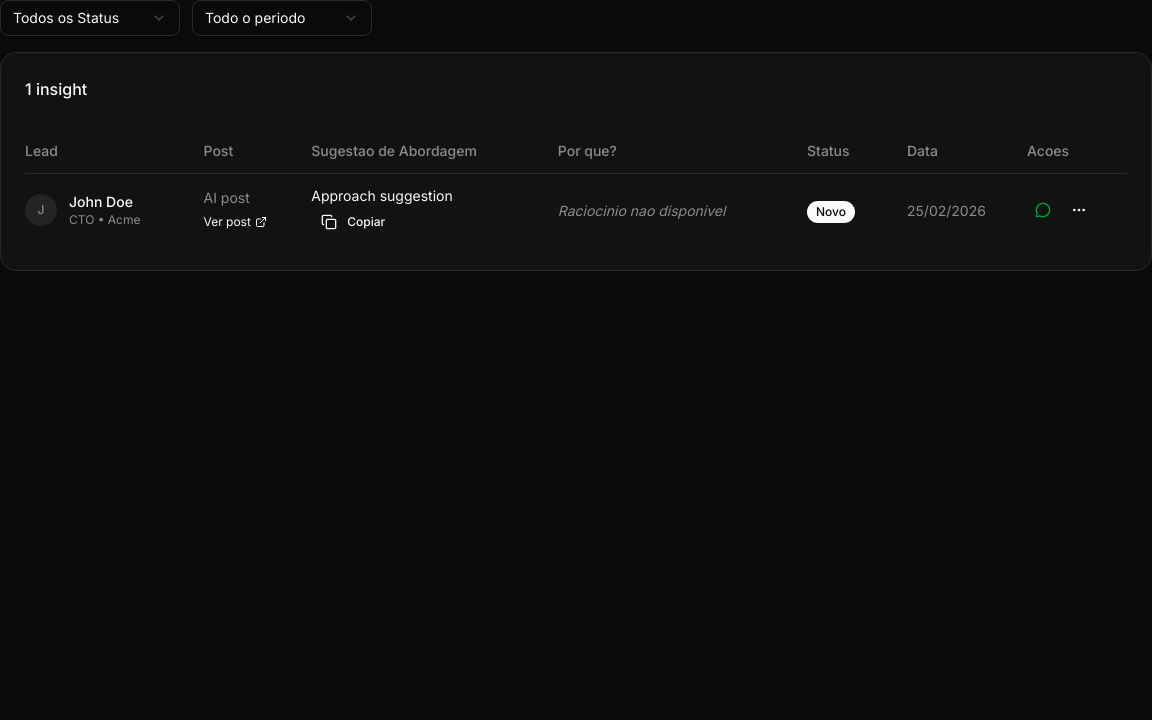
Test: InsightsPageContent › WhatsApp Dialog (Story 13.7) › should open WhatsApp dialog when WhatsApp button clicked
# Click the WhatsApp button
Click the button with test id "insight-whatsapp-button" at (1043, 210), box [1027,194,1059,226]
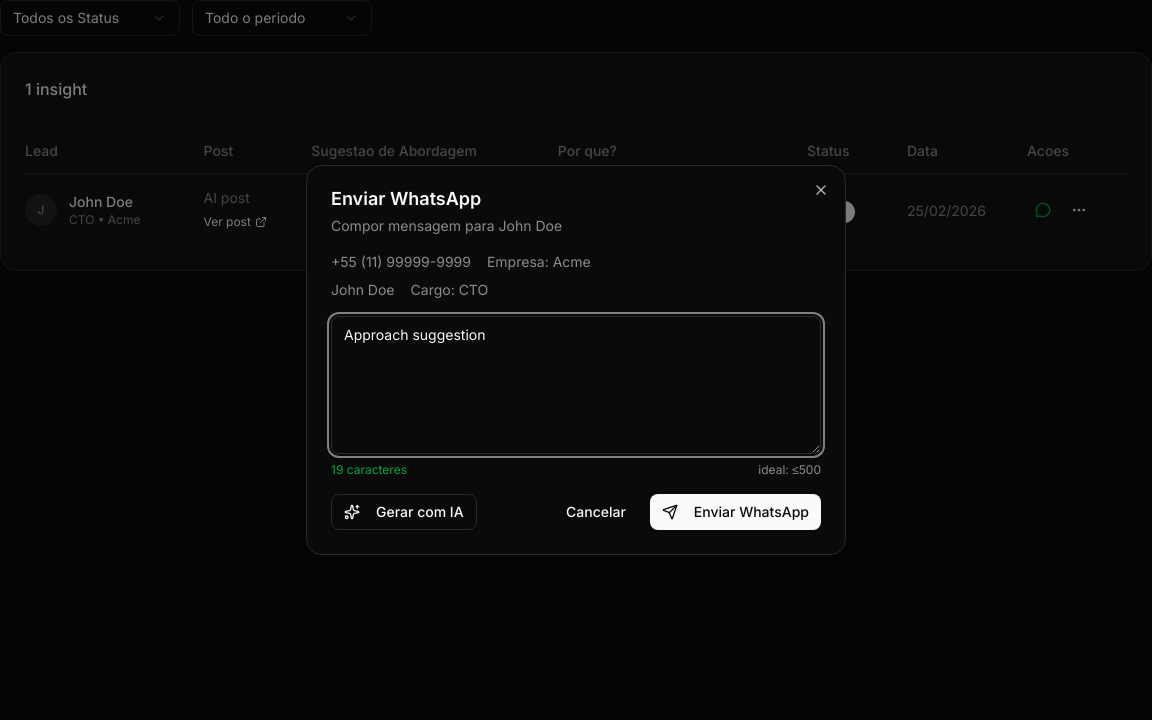
Expected: the dialog with test id "whatsapp-composer-dialog" is shown, [306,165,846,555]
